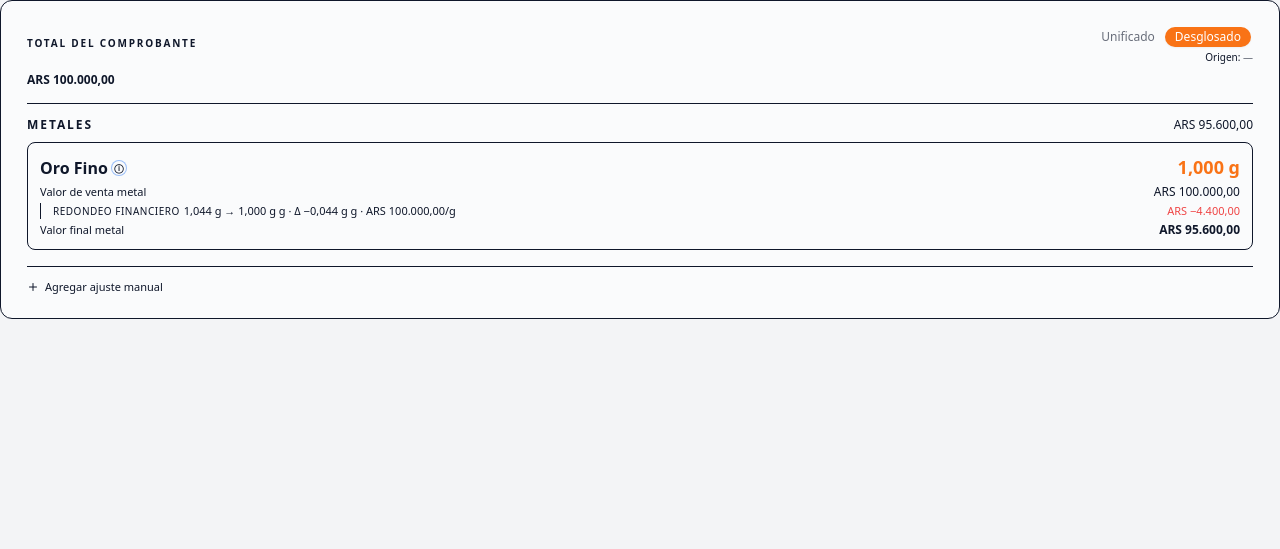
TotalDelComprobanteCard — Bug 2: Ajuste manual BREAKDOWN usa postGrams › (3-render) editor abierto con redondeo físico → preGrams arranca en 1,000 (no 1,044)
Click the button with test id "total-card-manual-adjustment-open" at (95, 287), box [27,279,163,296]
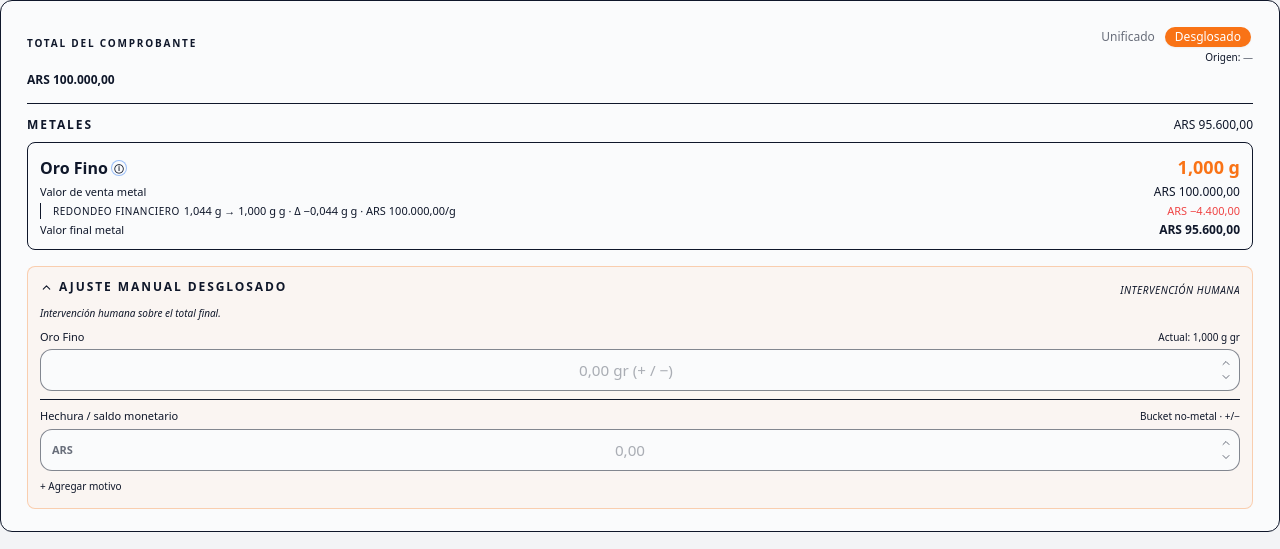
Expected: the element with test id "total-card-manual-adjustment-breakdown-editor" does not show "1,044"
Now the element with test id "total-card-manual-adjustment-breakdown-editor" shows "Oro Fino", box [40,328,84,344]
Now the element with test id "total-card-manual-adjustment-breakdown-editor" shows "1,000", box [1193,330,1240,344]
